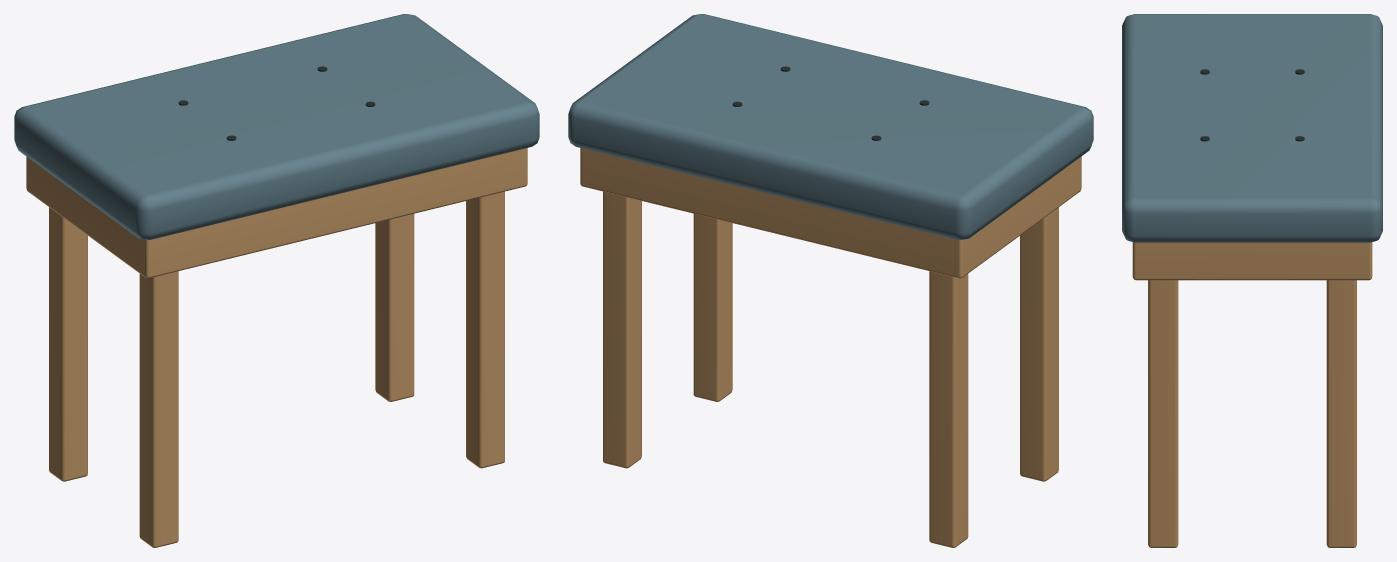
Rendered from compact-piano-bench.glb.
3 renders of one model, left to right at view 1: azimuth 30°, elevation 25°; view 2: azimuth 150°, elevation 25°; view 3: azimuth 270°, elevation 25°, orthographic.
Visible parts, largest first — view 1: compact-piano-bench authored assembly; view 2: compact-piano-bench authored assembly; view 3: compact-piano-bench authored assembly.
Boxes of the visible parts, x1,y1,x2,y2 form: compact-piano-bench authored assembly: (14,14,539,547); compact-piano-bench authored assembly: (568,14,1093,547); compact-piano-bench authored assembly: (1122,14,1382,547).
Size of the model in its own units: 0.58 by 0.502 by 0.33.
